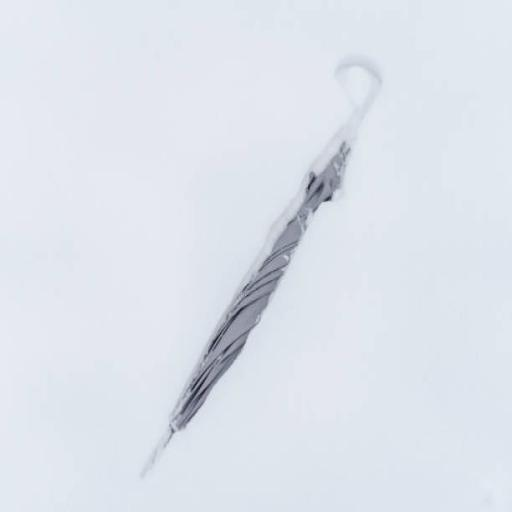guarda_chuva: (139, 54, 382, 478)
